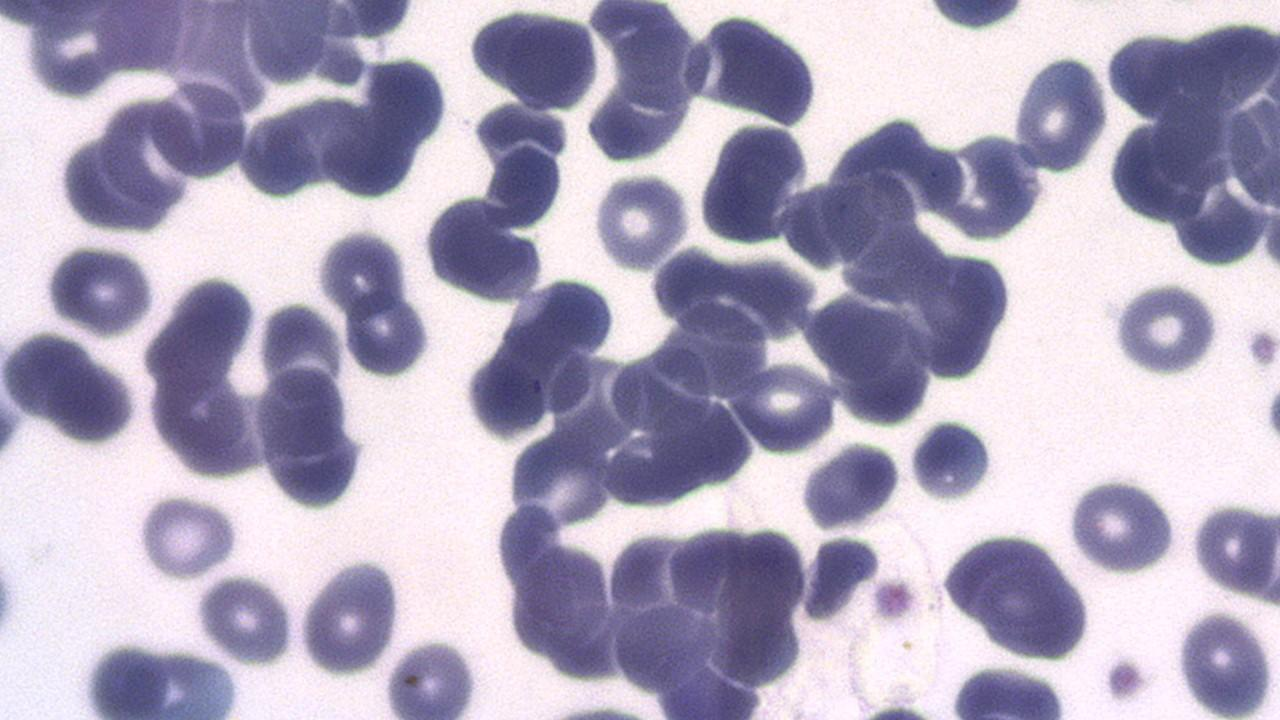Platelets: (1065, 470, 1183, 576), (1170, 606, 1278, 715), (1106, 280, 1224, 379), (41, 242, 157, 335), (193, 571, 298, 670), (796, 440, 904, 532), (380, 631, 484, 719), (312, 226, 412, 316), (1189, 496, 1277, 598), (341, 290, 434, 378), (908, 416, 994, 505), (925, 1, 1027, 32), (870, 575, 918, 622), (0, 543, 21, 648), (1245, 324, 1279, 370), (860, 702, 941, 720), (1262, 382, 1280, 448)
RBC: (252, 359, 370, 509), (296, 552, 402, 682), (1064, 471, 1182, 576), (1010, 50, 1111, 172), (41, 240, 158, 339), (1174, 608, 1280, 714), (590, 168, 692, 272), (728, 362, 842, 454), (151, 74, 246, 182), (133, 492, 242, 584), (378, 632, 487, 718), (1190, 494, 1276, 600), (315, 225, 411, 317), (341, 289, 436, 380), (244, 0, 326, 89), (237, 110, 316, 202)
WBC: (262, 0, 1180, 720), (6, 19, 547, 720), (0, 0, 492, 285), (1098, 56, 1280, 276), (54, 86, 204, 237), (938, 527, 1097, 663), (241, 360, 378, 511), (465, 1, 604, 112), (82, 640, 252, 716), (1010, 50, 1112, 173), (798, 438, 905, 534)
